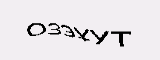Ұ: (73, 24, 91, 46)
